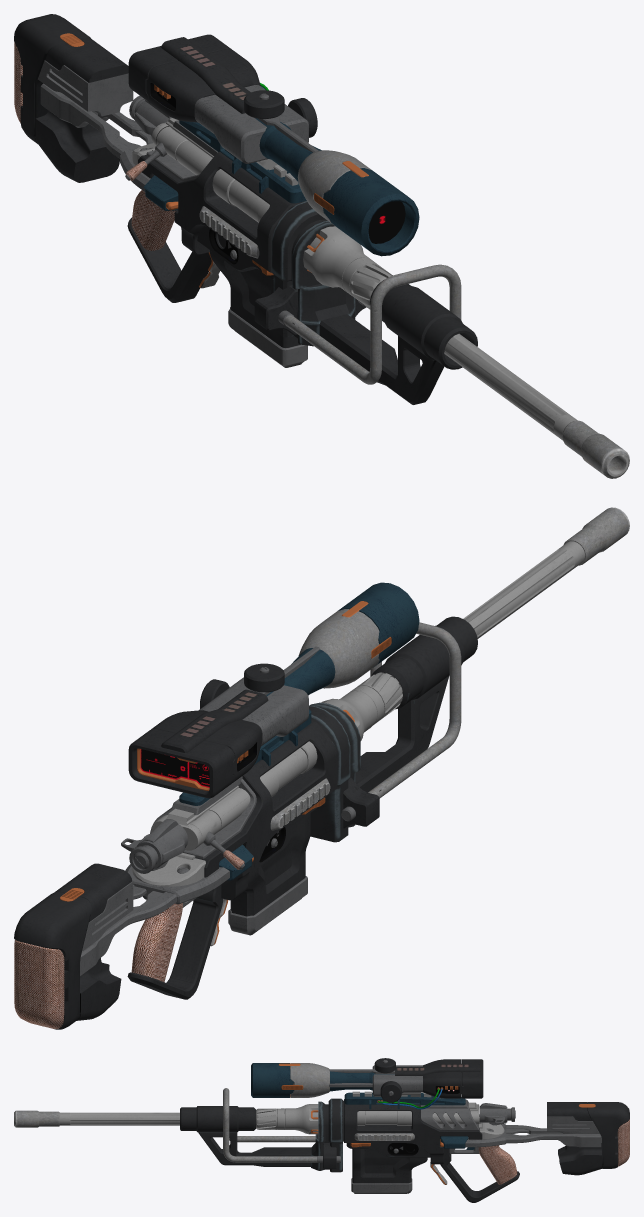
The model's file is rifle.glb.
3 renders of one model, top to bottom at view 1: azimuth 30°, elevation 25°; view 2: azimuth 150°, elevation 25°; view 3: azimuth 270°, elevation 25°, orthographic. The views are drawn at different scales.
Visible parts, largest first — view 1: Cylinder.014_3_10, Cube.006_2_8, Cylinder.009_1_5, Cube.020_6_16, Cylinder.025_12_27, Cube.024_7_19, Cube.036_21_43; view 2: Cylinder.014_3_10, Cube.006_2_8, Cylinder.009_1_5, Cylinder.025_12_27, Cube.020_6_16, Cube.031_9_23, Cube.024_7_19, Cube.027_20_41; view 3: Cylinder.014_3_10, Cube.006_2_8, Cylinder.009_1_5, Cylinder.025_12_27, Cube.020_6_16, Cube.024_7_19, Cube.031_9_23, Cube.036_21_43, Cube.019_5_14.
Boxes of the visible parts, box(x1,y1,x2,y2) form: Cylinder.014_3_10: box(14, 14, 477, 404); Cube.006_2_8: box(38, 60, 366, 367); Cylinder.009_1_5: box(132, 118, 577, 440); Cube.020_6_16: box(143, 118, 419, 256); Cylinder.025_12_27: box(199, 150, 629, 478); Cube.024_7_19: box(131, 190, 176, 250); Cube.036_21_43: box(150, 82, 238, 264); Cylinder.014_3_10: box(14, 616, 477, 1029); Cube.006_2_8: box(80, 646, 355, 975); Cylinder.009_1_5: box(132, 541, 585, 946); Cylinder.025_12_27: box(270, 507, 629, 830); Cube.020_6_16: box(179, 582, 419, 880); Cube.031_9_23: box(14, 940, 64, 1028); Cube.024_7_19: box(131, 903, 182, 982); Cube.027_20_41: box(140, 749, 209, 787); Cylinder.014_3_10: box(180, 1058, 629, 1202); Cube.006_2_8: box(317, 1060, 601, 1193); Cylinder.009_1_5: box(59, 1091, 504, 1184); Cylinder.025_12_27: box(14, 1063, 414, 1162); Cube.020_6_16: box(251, 1063, 474, 1149); Cube.024_7_19: box(478, 1145, 517, 1184); Cube.031_9_23: box(617, 1119, 629, 1166); Cube.036_21_43: box(387, 1086, 459, 1155); Cube.019_5_14: box(281, 1084, 458, 1147).
Bounding box in the file's own units: 1.64 × 3.59 × 14.31.
14 materials, 10 textured.
